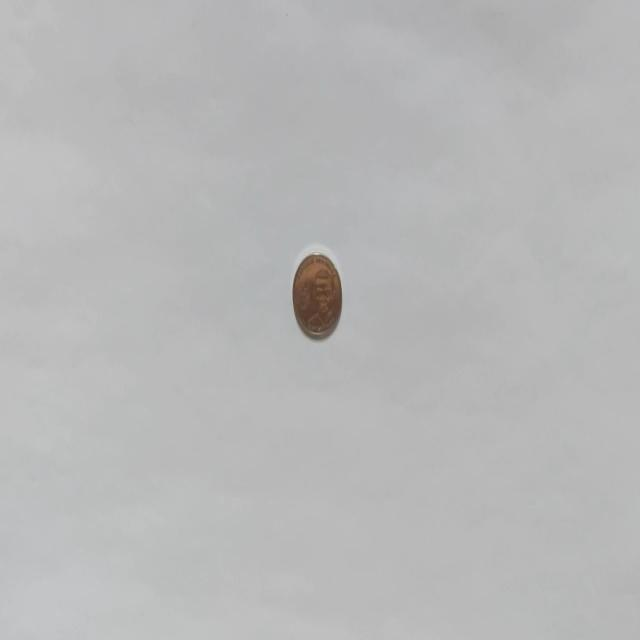seribu rupiah koin: (291, 247, 343, 341)
